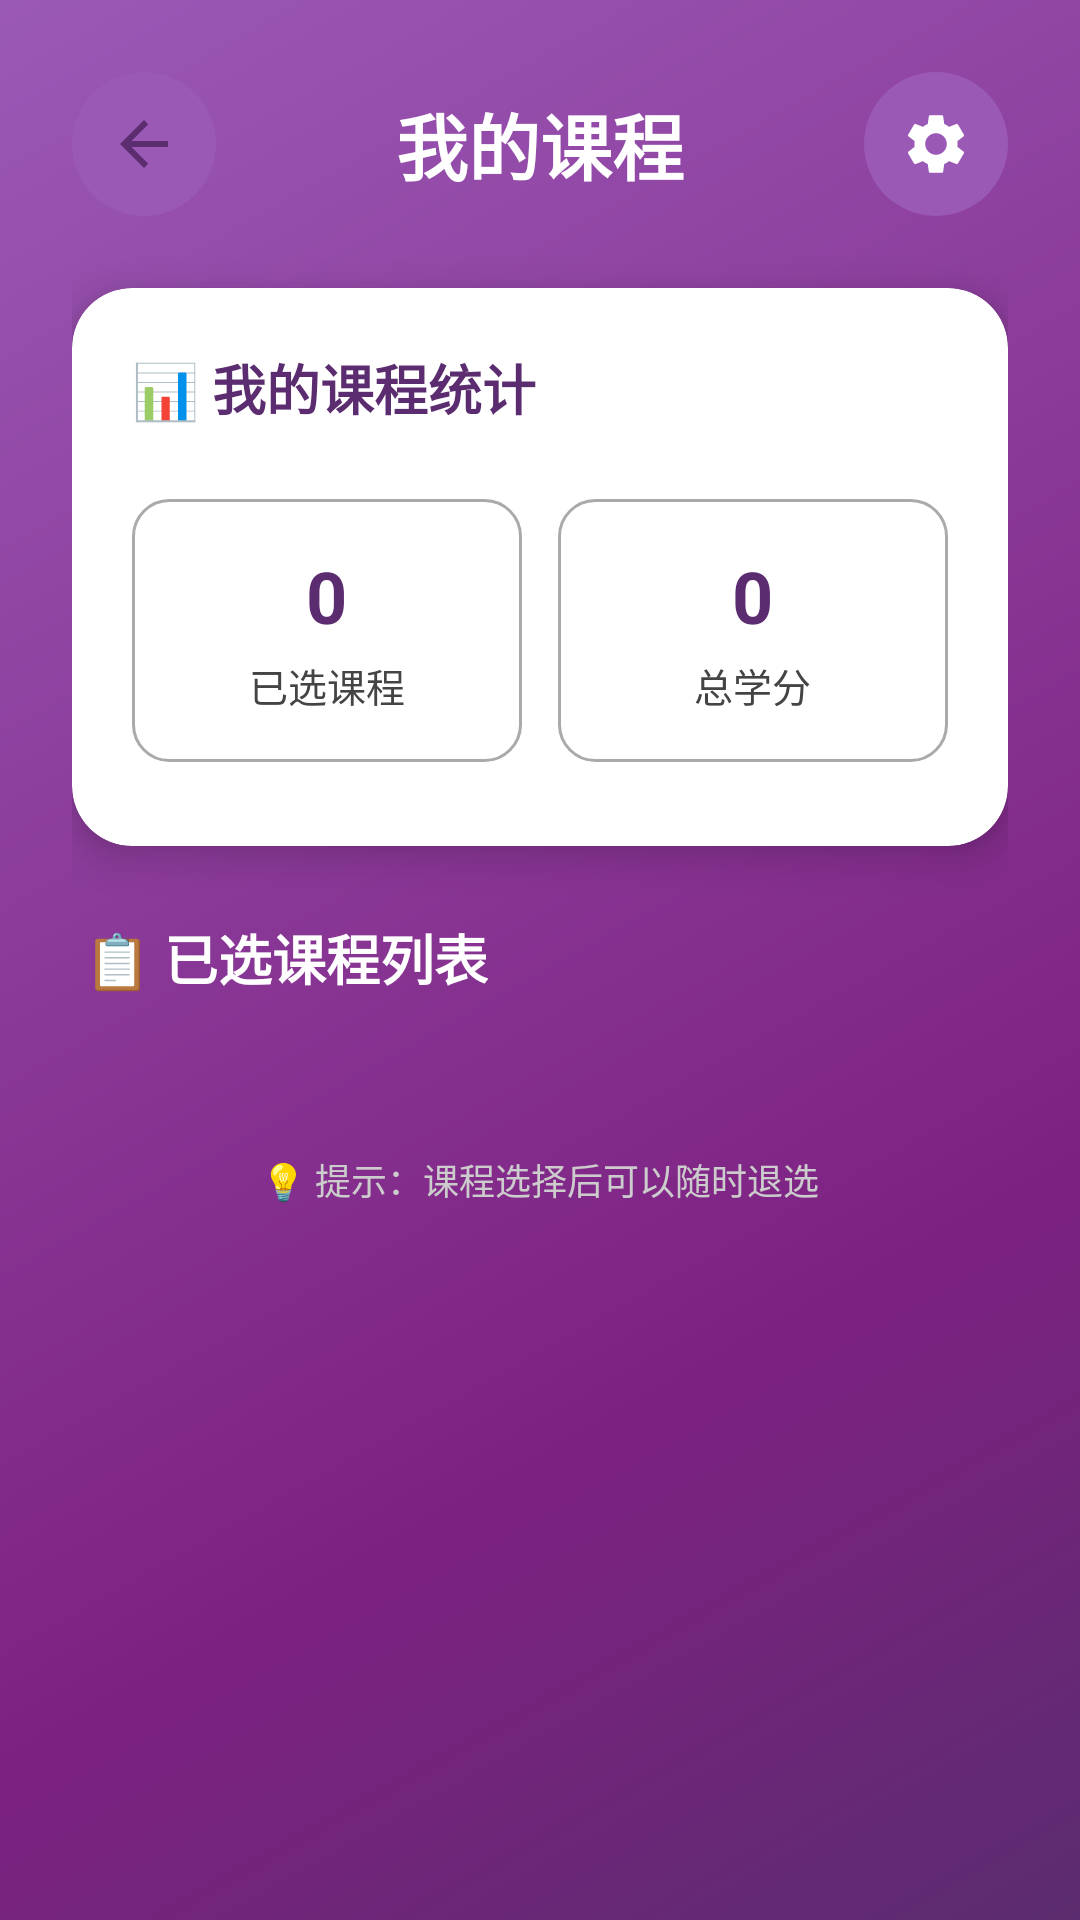

Icons on this 1080px x 1920px Android screen, each with its box as rect(x1, y1, x2, y2):
返回: rect(120, 120, 168, 168)
